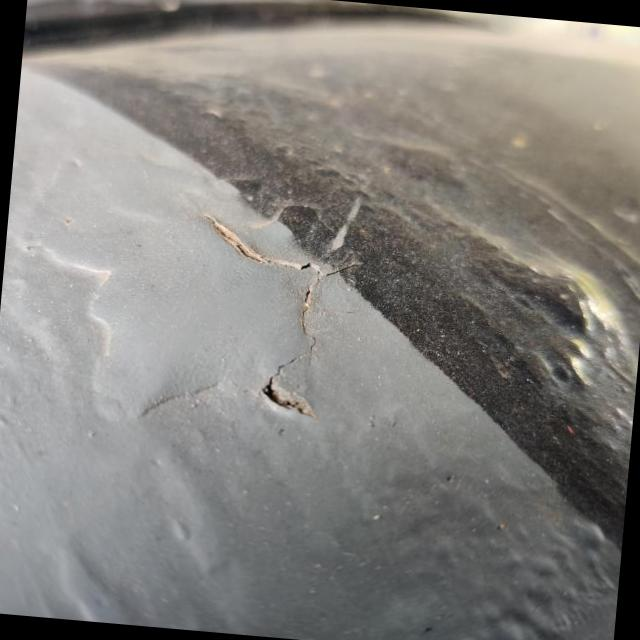Crack: (201, 212, 322, 414)
